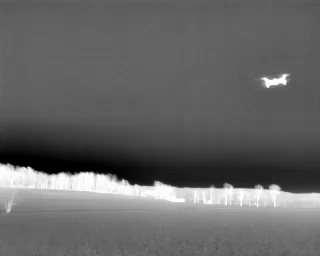DRONE: (257, 69, 294, 93)
